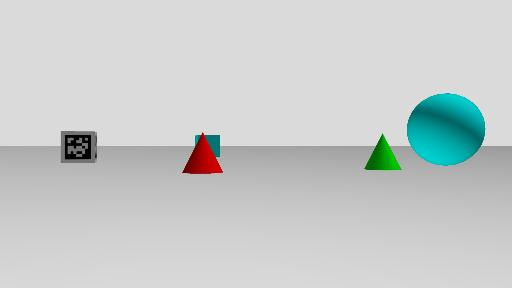green_cone: (363, 134, 402, 170)
red_cone: (181, 130, 224, 175)
